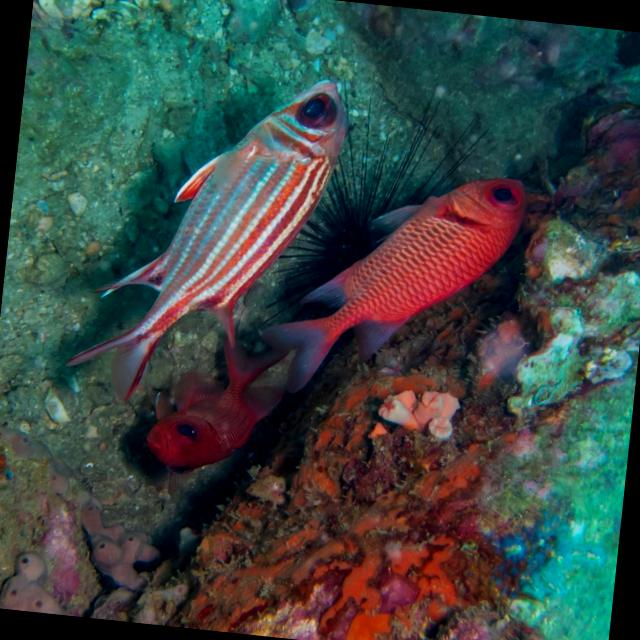Asker Baligi: (59, 53, 354, 422), (248, 150, 530, 416)
